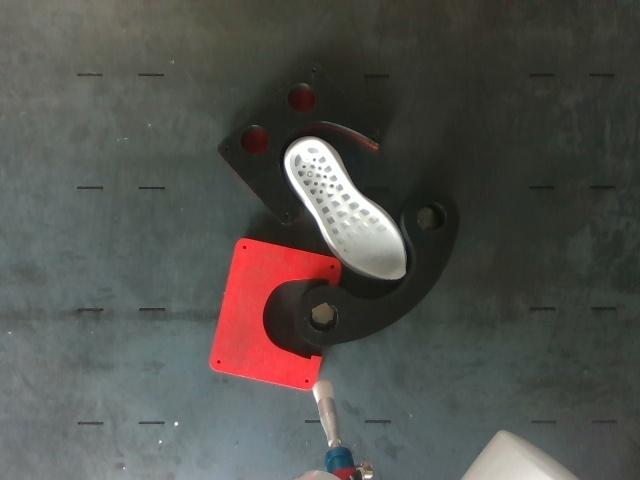shoes: (288, 140, 406, 278)
